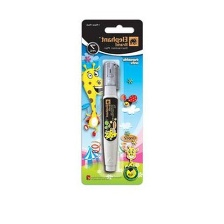book: (78, 16, 147, 188)
correction_fluid: (100, 58, 122, 173)
